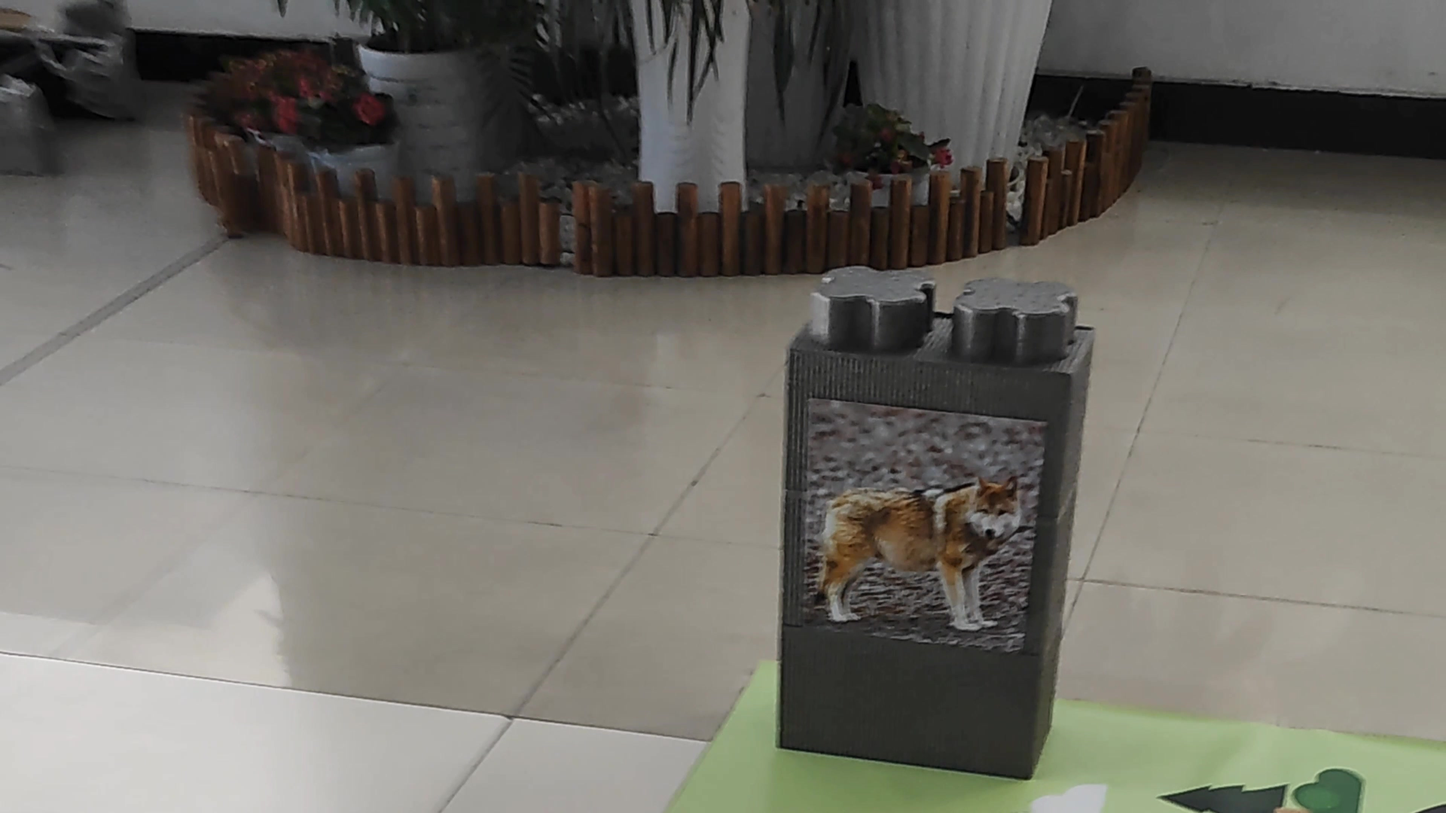wolf: (800, 394, 1026, 635)
